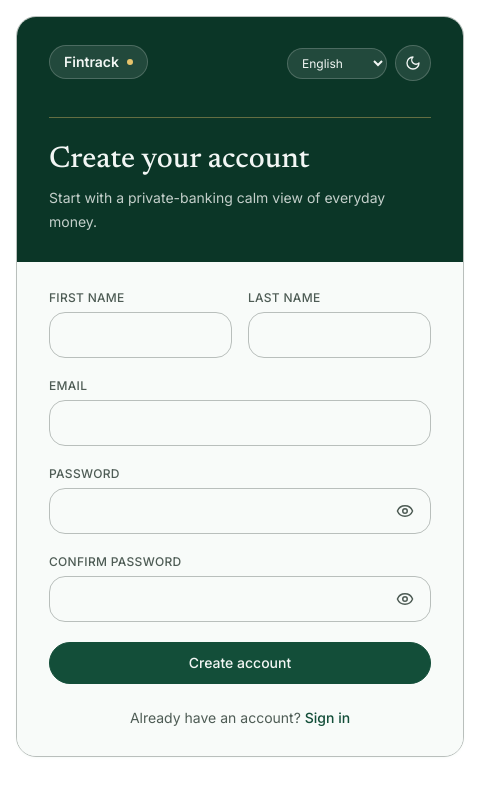
Test: auth password entry › blocks registration when password confirmation does not match
Type "Ada" into the field labelled "First name" at (140, 335), box top-left (49, 312), bottom-right (232, 358)
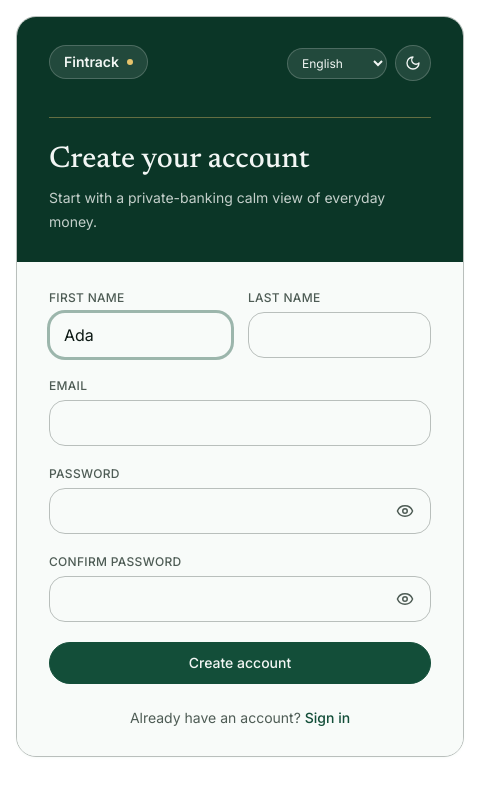
Type "Lovelace" into the field labelled "Last name" at (340, 335), box top-left (248, 312), bottom-right (431, 358)
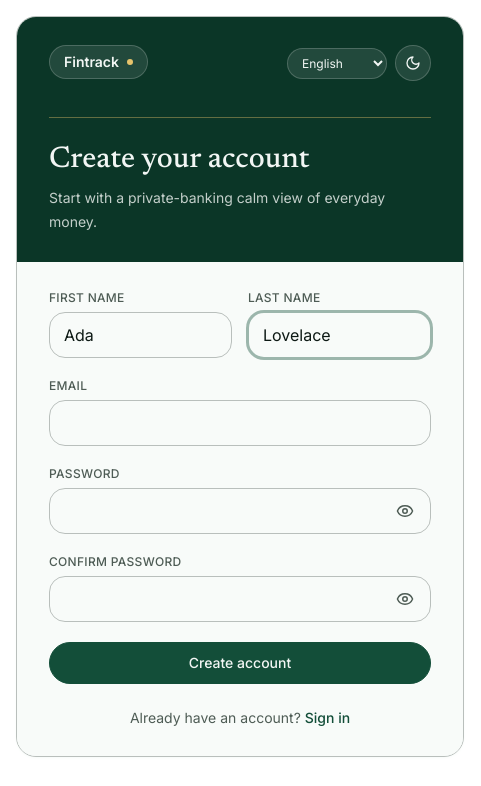
Type "ada@example.com" into the field labelled "Email" at (240, 423), box top-left (49, 400), bottom-right (431, 446)
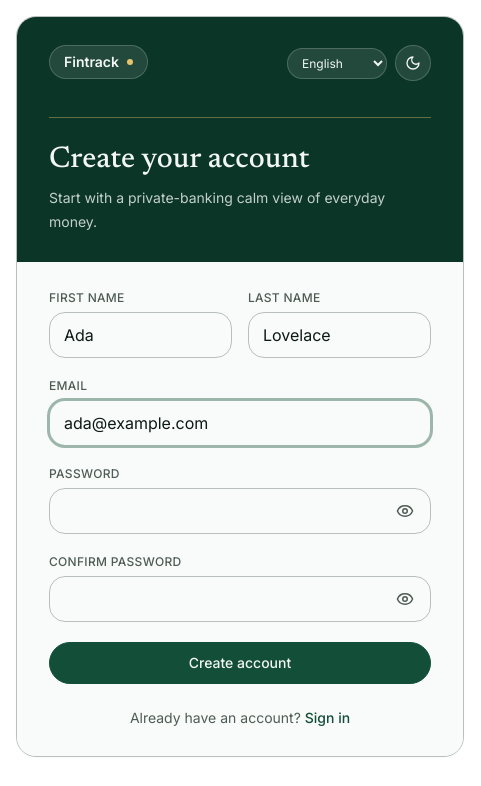
Type "password123" into the password field labelled "Password" at (240, 511), box top-left (49, 488), bottom-right (431, 534)
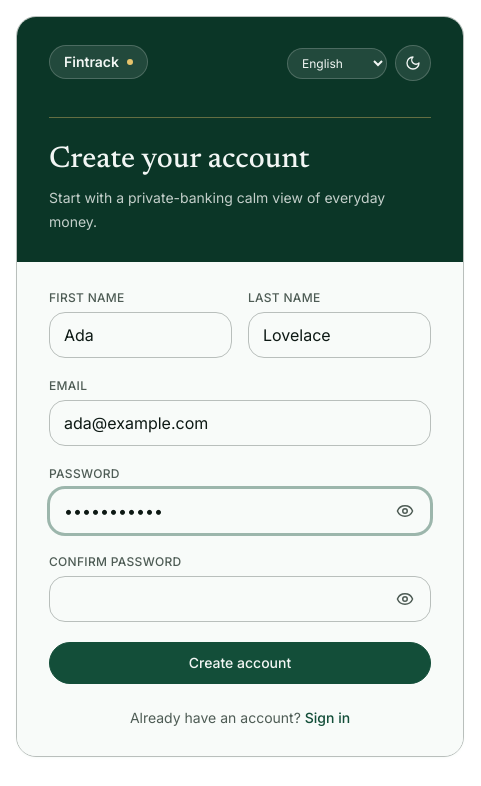
Type "password456" into the password field labelled "Confirm password" at (240, 599), box top-left (49, 576), bottom-right (431, 622)
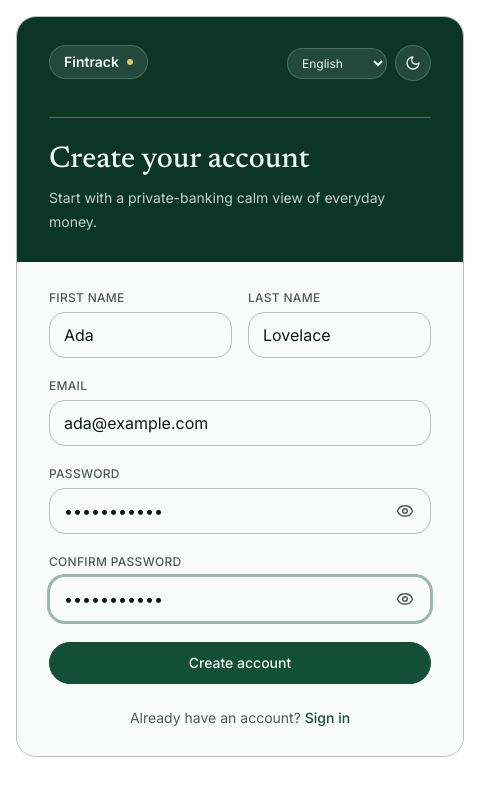
Click the button "Create account" at (240, 663), box top-left (49, 642), bottom-right (431, 684)
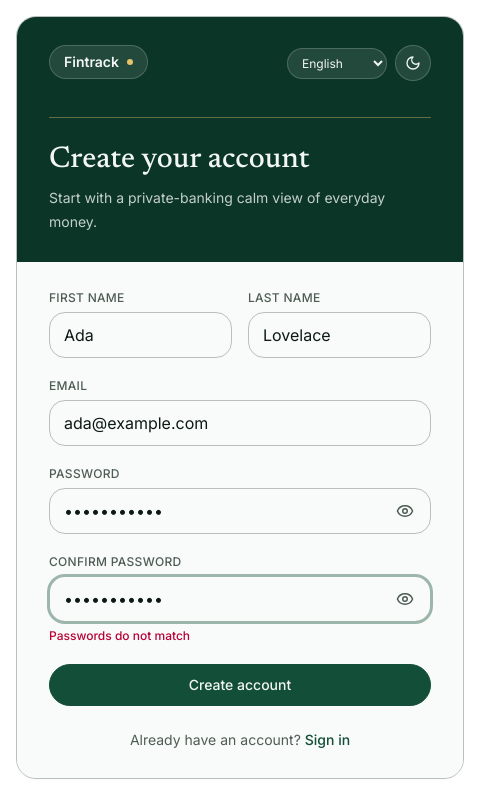
Result: the text "Passwords do not match" is shown at top-left (49, 628), bottom-right (190, 643)
